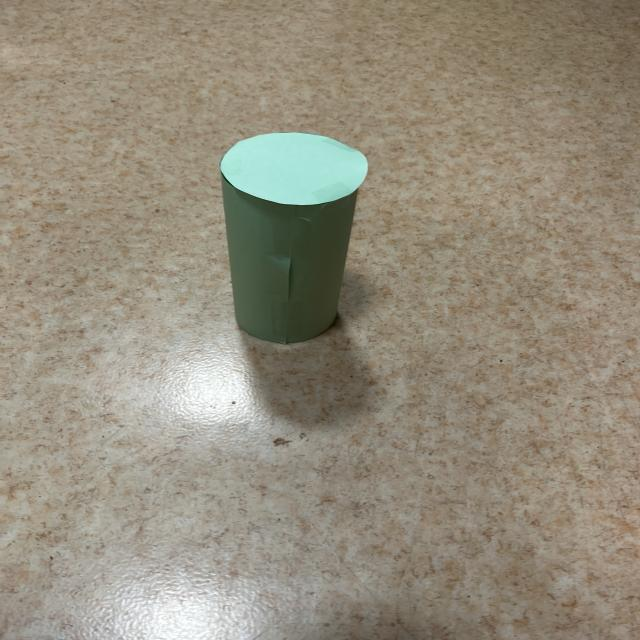meta: (221, 133, 367, 344)
